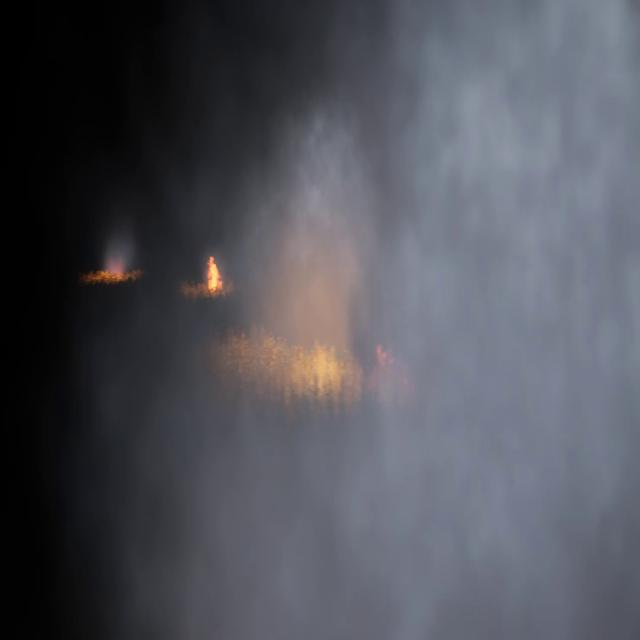fire: (219, 314, 366, 394), (206, 254, 222, 287)
smoke: (70, 3, 640, 639), (101, 224, 137, 275)
